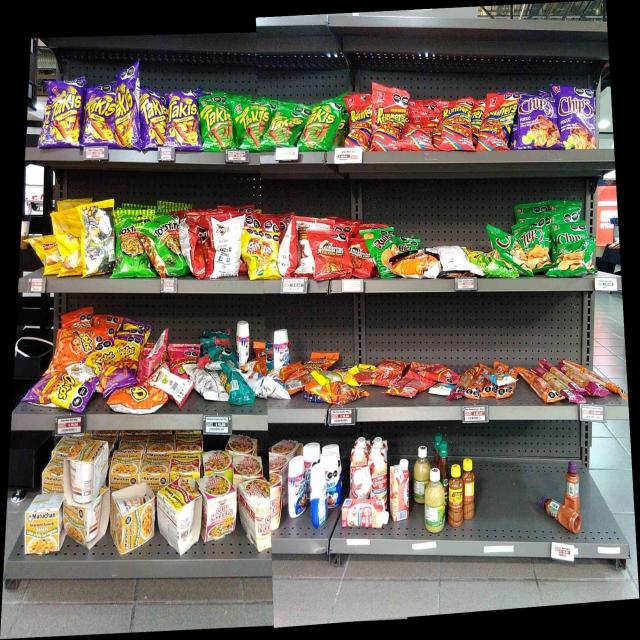bitzAlmendras: (488, 373, 515, 387)
bitzEnchilado95: (524, 371, 550, 403)
bitzHabanero: (555, 364, 596, 402)
botaneraChilito: (449, 466, 461, 526), (464, 458, 474, 519)
cheetosFlaminHot: (34, 376, 87, 411), (90, 351, 118, 383), (120, 334, 136, 384)
cheetosOriginal: (54, 331, 88, 368), (112, 388, 164, 410)
chipsFuego: (516, 94, 560, 150), (562, 89, 597, 149)
chipsJalapeno: (522, 224, 552, 272), (556, 247, 595, 277), (500, 234, 521, 264), (554, 225, 587, 244)
chipsPapatinas: (479, 252, 499, 278)
churrumais: (169, 344, 196, 370)
delPrimoSalsa: (426, 470, 444, 532), (413, 446, 424, 501)
doritosNacho: (191, 216, 211, 278)
fritosLimon: (242, 227, 279, 278)
hotNutsOriginal: (396, 255, 438, 277)
leoCacahuates: (247, 369, 280, 398)
maruchanPollo: (110, 493, 156, 550), (66, 440, 108, 490), (24, 497, 62, 551), (66, 495, 106, 546)
maruchanRes: (159, 479, 200, 551)
nestleCarnation: (342, 499, 388, 528), (390, 459, 408, 520), (370, 460, 388, 497)
nestleLechera: (288, 460, 306, 518), (309, 468, 327, 524), (235, 321, 250, 365), (329, 453, 340, 507), (273, 332, 288, 364)
nissinRes: (239, 481, 271, 548), (203, 477, 236, 536)
productoAtras: (86, 206, 114, 275), (213, 217, 240, 277), (282, 222, 310, 276), (439, 246, 476, 278), (284, 367, 317, 393), (398, 369, 427, 398), (166, 375, 194, 405), (198, 368, 221, 403), (223, 368, 245, 404), (320, 386, 363, 404)
rancheritos: (312, 230, 348, 276), (350, 236, 367, 278)
rufflesQueso: (368, 230, 394, 277)
runners: (375, 88, 406, 152), (476, 96, 513, 149), (440, 105, 473, 151), (347, 95, 372, 148)
sabritasOriginal: (57, 218, 83, 275), (34, 236, 56, 275)
semillasCalabaza: (318, 365, 359, 383)
tajinDulce: (539, 495, 563, 522), (565, 462, 579, 508)
takisFuego: (44, 81, 82, 145), (168, 91, 200, 151), (83, 86, 115, 145), (118, 70, 141, 148), (143, 90, 165, 148)
takisOriginal: (304, 103, 343, 149), (202, 99, 233, 148), (236, 104, 268, 150), (271, 108, 302, 144)
tostitos: (142, 220, 181, 276), (116, 212, 140, 278)
